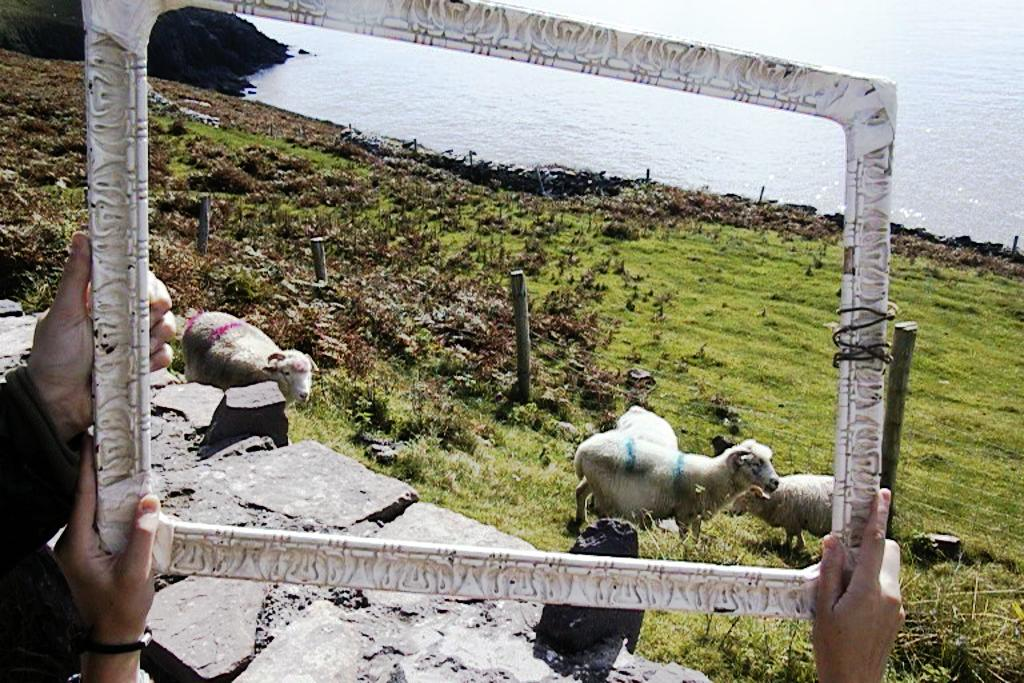Sheep: (575, 432, 780, 558), (731, 473, 837, 554), (613, 406, 676, 530)
